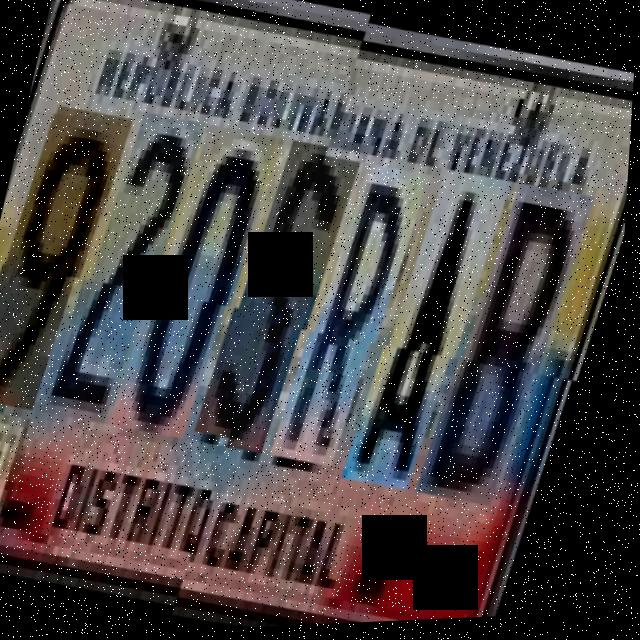2: (57, 115, 209, 439)
9: (0, 108, 137, 426)
A: (360, 163, 519, 497)
B: (434, 176, 603, 512)
O: (123, 127, 288, 454)
R: (288, 158, 437, 473)
S: (209, 143, 367, 460)
